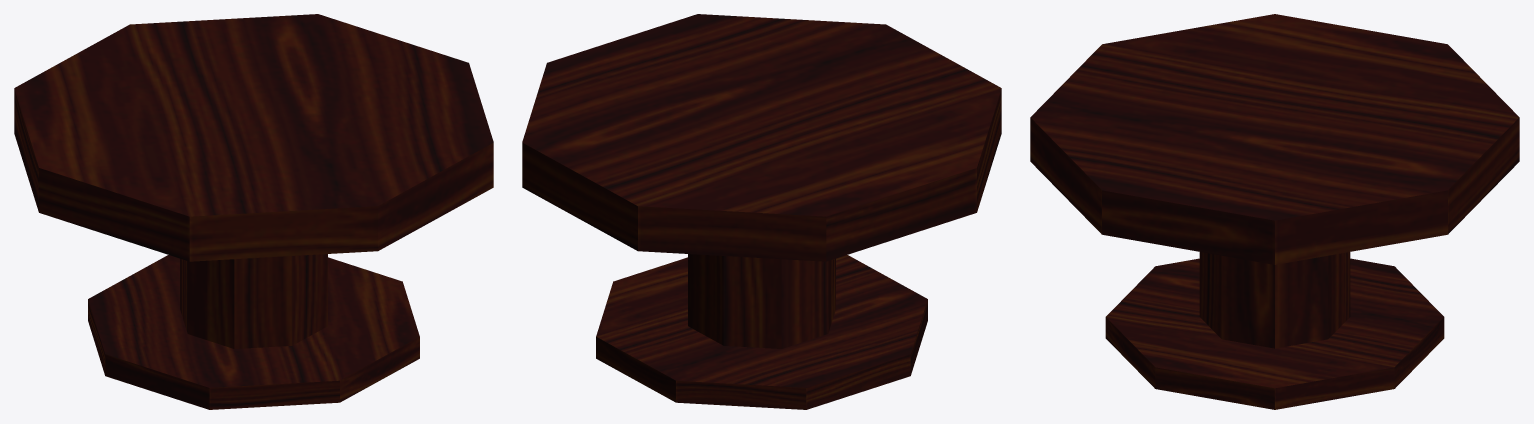
Rendered from Table1.fbx.
The picture shows the model from 3 angles, left to right: view 1: azimuth 30°, elevation 25°; view 2: azimuth 150°, elevation 25°; view 3: azimuth 270°, elevation 25°; orthographic projection.
Visible parts, largest first — view 1: Cylinder; view 2: Cylinder; view 3: Cylinder.
Boxes of the visible parts, left/top/right/bottom form: Cylinder: left=14, top=14, right=493, bottom=409; Cylinder: left=522, top=14, right=1001, bottom=409; Cylinder: left=1030, top=14, right=1519, bottom=409.
Bounding box in the file's own units: 200 × 99.78 × 200.
